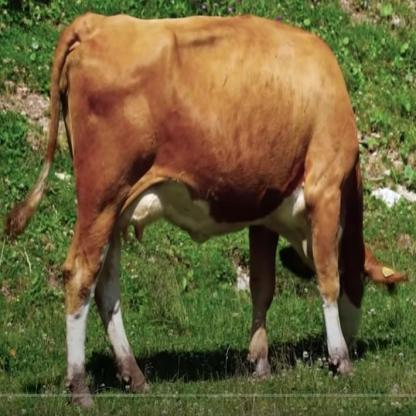cow: (56, 16, 404, 412)
